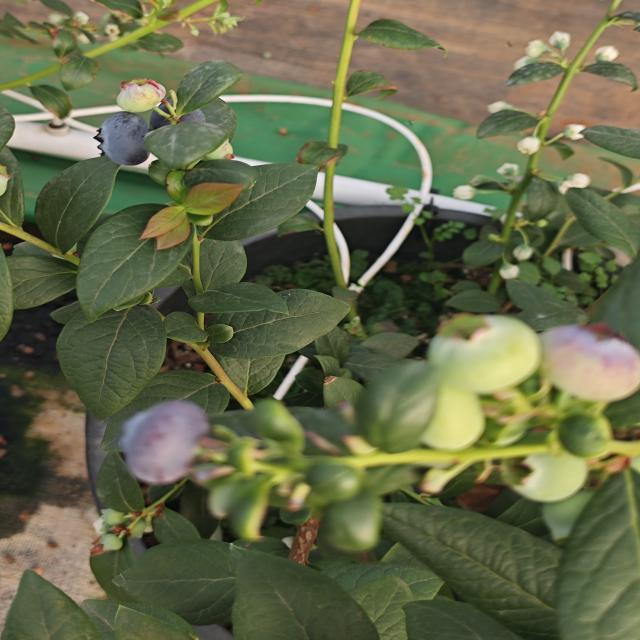ripe: (111, 394, 212, 486), (94, 104, 162, 170)
